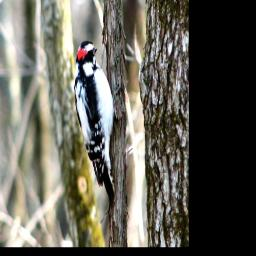Woodpecker: (71, 41, 120, 212)
